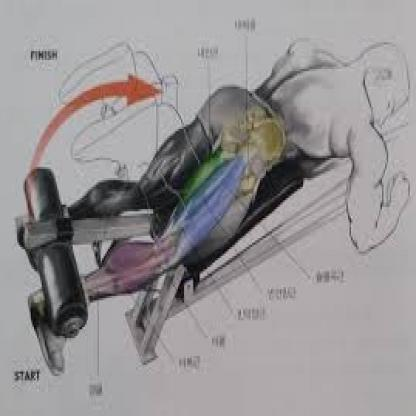reg curl machine: (15, 28, 410, 377)
